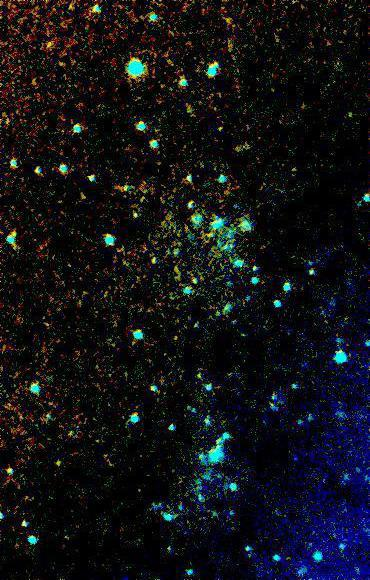star: (55, 0, 85, 30)
